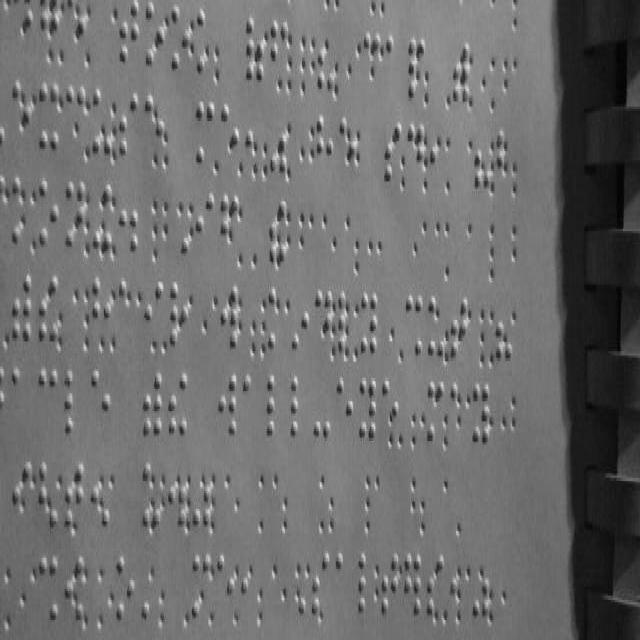braiile: (64, 364, 86, 436), (38, 80, 60, 151), (118, 0, 140, 67), (118, 91, 140, 158), (266, 371, 288, 438), (290, 373, 312, 440), (194, 98, 216, 164), (38, 176, 58, 247), (170, 3, 190, 72), (38, 366, 58, 434), (386, 33, 406, 100), (218, 372, 238, 437), (117, 554, 135, 624), (218, 550, 235, 624), (92, 368, 110, 437), (12, 366, 30, 434), (336, 548, 354, 616), (357, 548, 375, 616), (316, 113, 334, 180), (381, 551, 399, 618), (144, 279, 164, 339), (336, 376, 354, 442), (196, 192, 214, 257), (242, 372, 260, 437), (472, 381, 490, 446), (270, 18, 288, 80), (92, 278, 110, 340), (360, 291, 378, 353), (450, 296, 468, 358), (358, 378, 376, 440)
